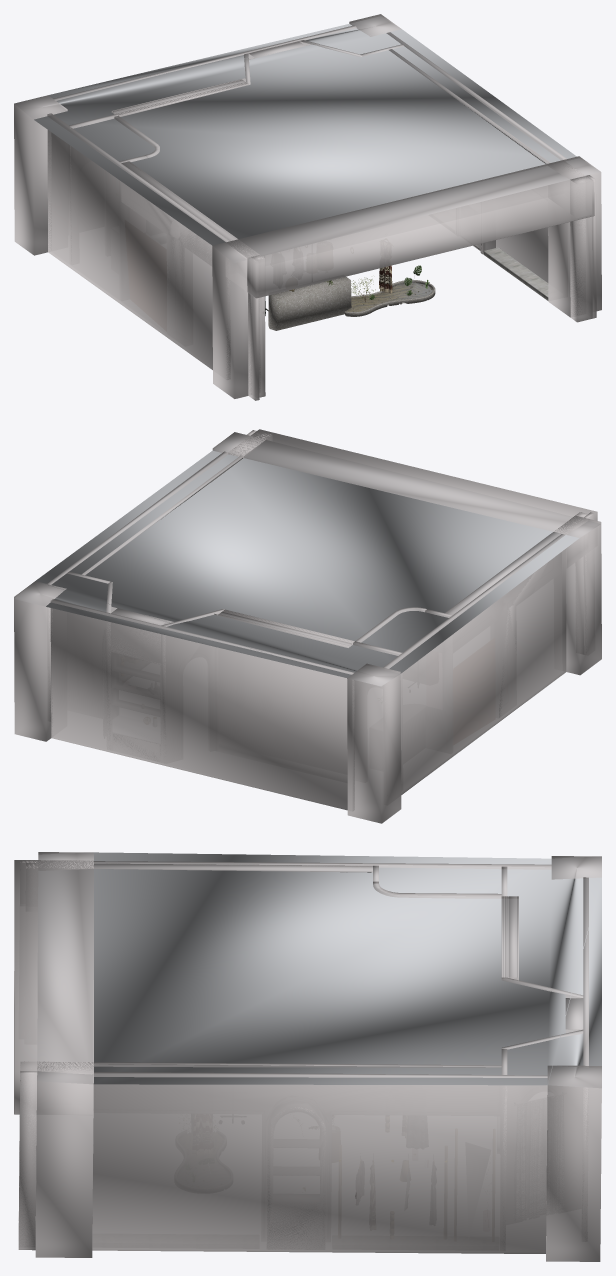
The picture shows the model from 3 angles, top to bottom: view 1: azimuth 30°, elevation 25°; view 2: azimuth 150°, elevation 25°; view 3: azimuth 270°, elevation 25°; orthographic projection. The views are drawn at different scales.
Parts seen in each view (by area): view 1: Object_100, Object_4, Object_64, Object_73, Object_72; view 2: Object_4, Object_100; view 3: Object_4, Object_100.
Boxes of the visible parts, box(x1,y1,x2,y2) form: Object_100: box(15, 16, 599, 315); Object_4: box(14, 14, 601, 400); Object_64: box(268, 276, 435, 330); Object_73: box(483, 247, 548, 300); Object_72: box(345, 282, 432, 311); Object_4: box(14, 429, 601, 823); Object_100: box(15, 432, 599, 686); Object_4: box(14, 852, 601, 1261); Object_100: box(37, 852, 601, 1161).
Size of what is drawn, in the model's own units: 9.29 by 3.49 by 10.07.
74 materials, 71 textured.
